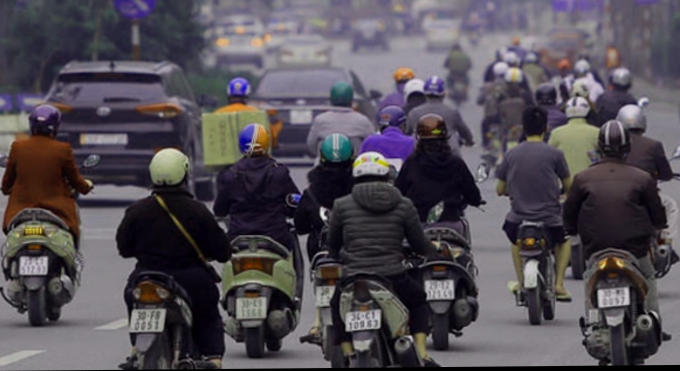Bien-so: (157, 307, 190, 332), (361, 313, 395, 336), (600, 296, 632, 319), (258, 299, 288, 323), (53, 254, 80, 276), (117, 136, 158, 150), (437, 286, 465, 305), (331, 289, 353, 311)
